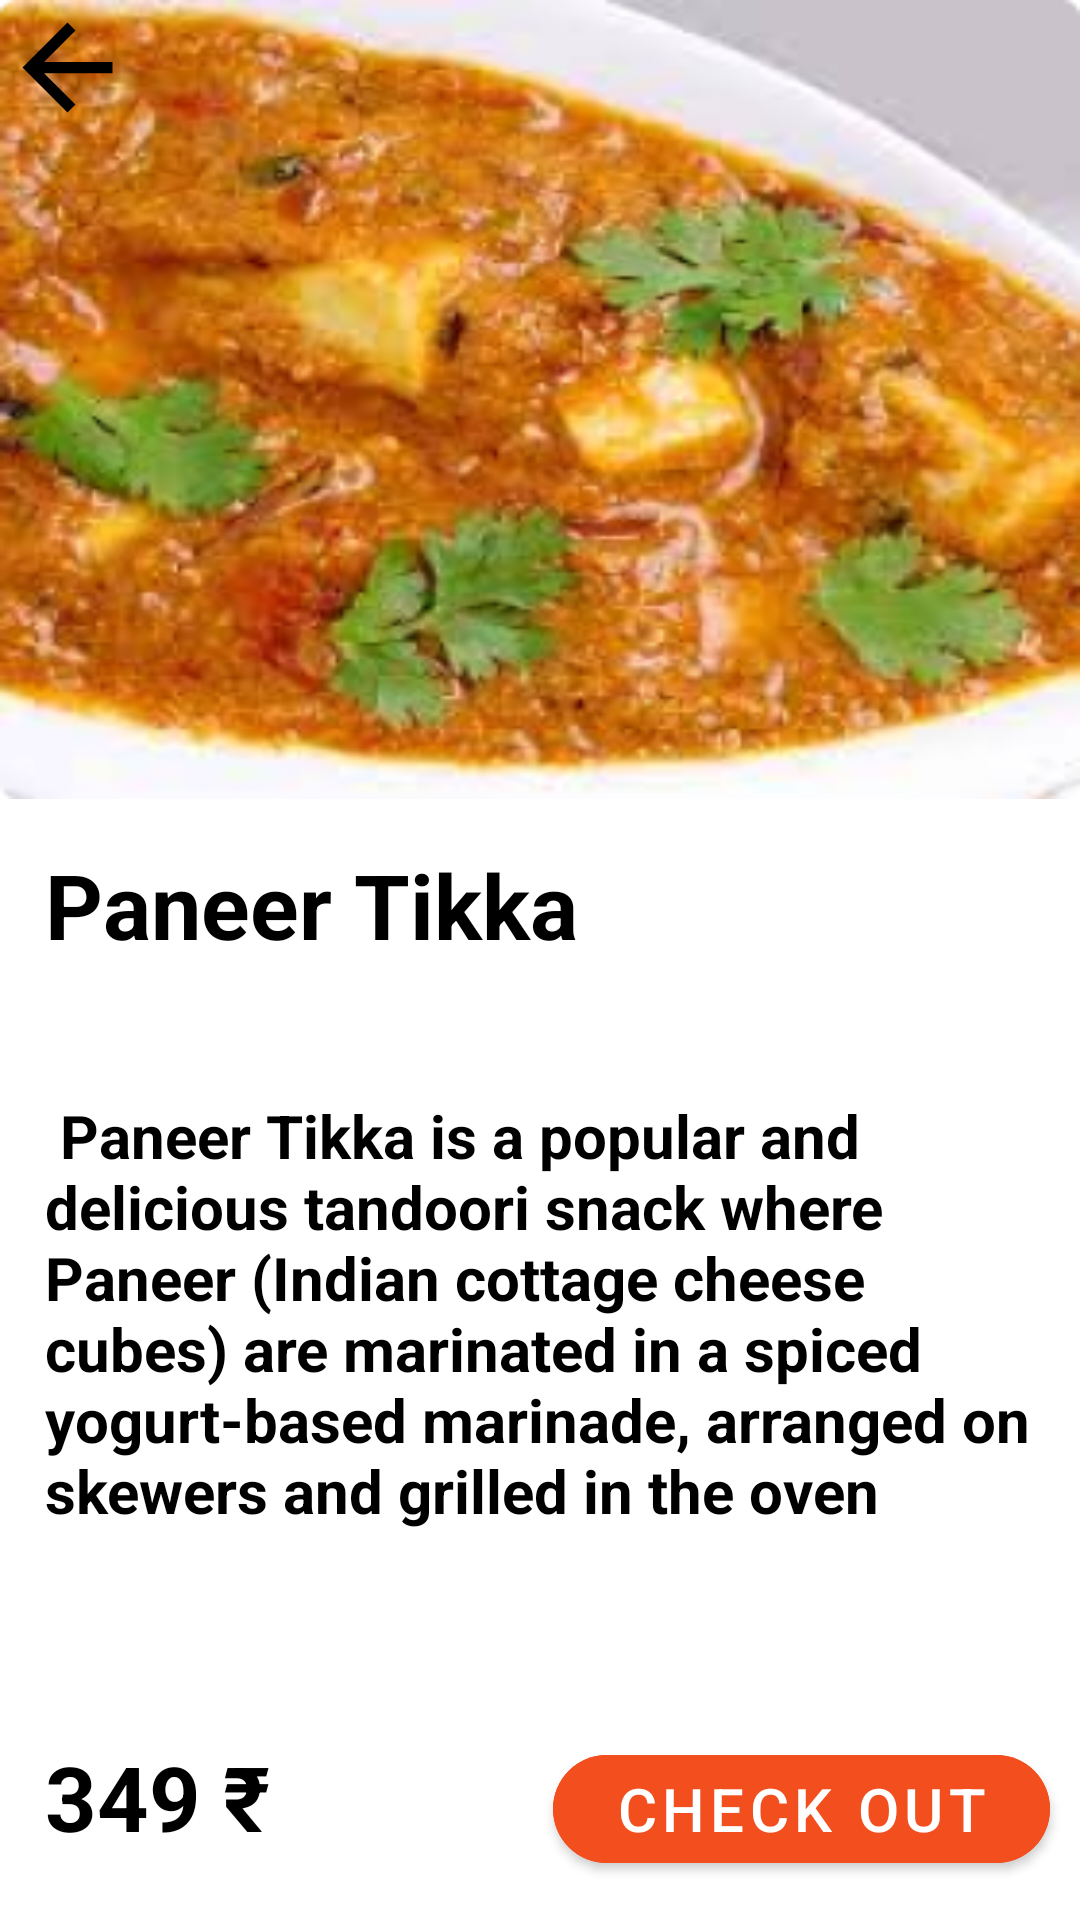

Named icons in this screenshot (1080w x 1920h) and their centers, (x=x, y=y):
back: (x=67, y=67)
